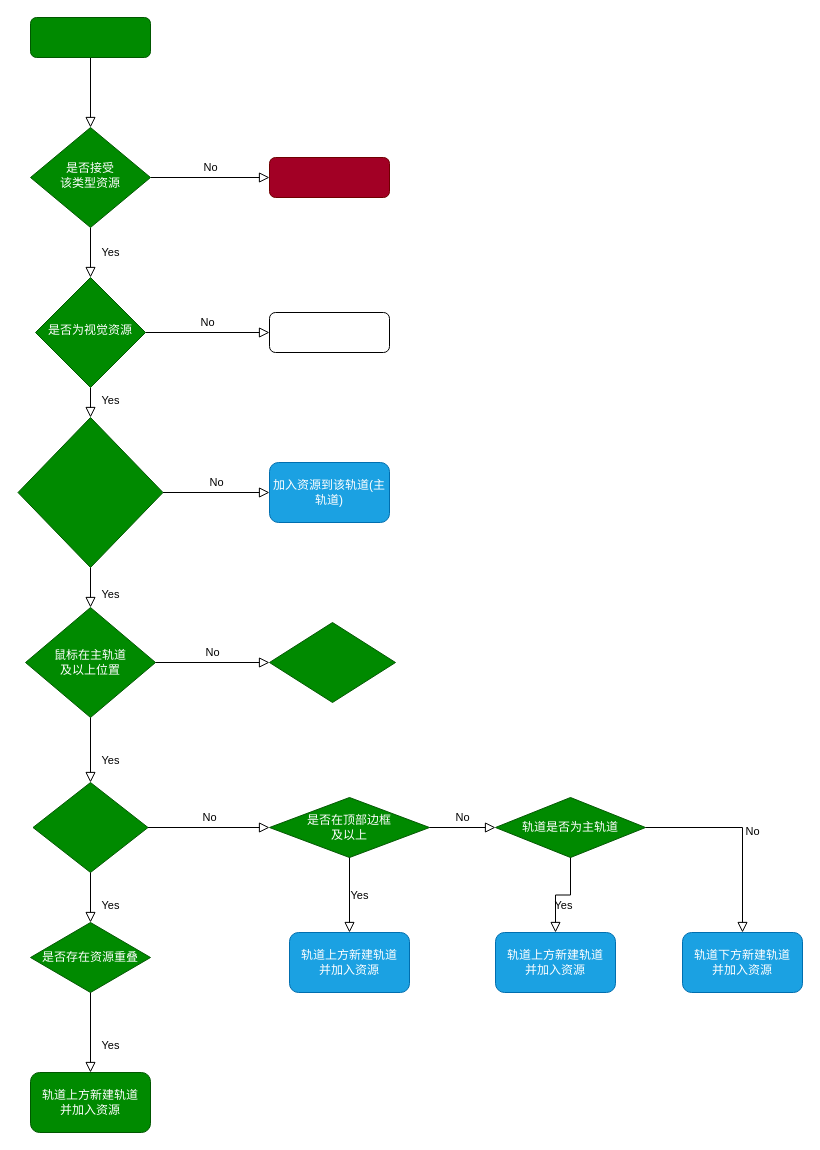
The diagram is 820 pixels wide and 1150 high, and some of its shapes have lost their labels. The centre of each missing label's shape, as x and y in pixels:
Replace Bulb: point (329, 332)
开始拖资源到时间轴: point (90, 37)
是否为包含音频资源: point (332, 662)
结束: point (329, 177)
视觉轨道数大于一条 或者 主轨道有内容: point (90, 492)
鼠标在轨道 中间区域: point (90, 827)
